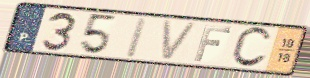3: (38, 10, 78, 53)
5: (77, 14, 120, 56)
C: (229, 25, 274, 69)
F: (192, 24, 234, 63)
I: (122, 16, 151, 60)
V: (159, 18, 201, 62)
